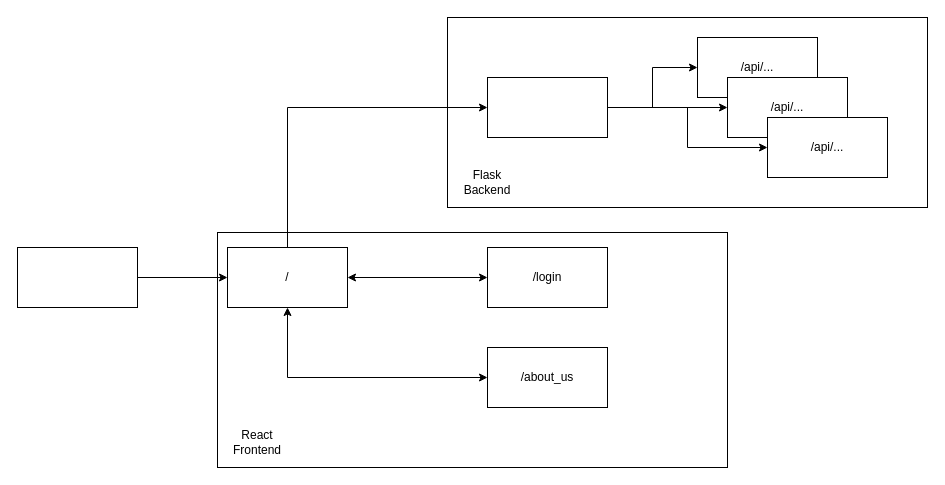
The diagram is 945 pixels wide and 485 high, and some of its shapes have lost their labels. The box of each missing label's shape, as (x1, y1, x2, y2) in pixels:
/api: (486, 76, 608, 138)
Browser: (16, 246, 138, 308)
